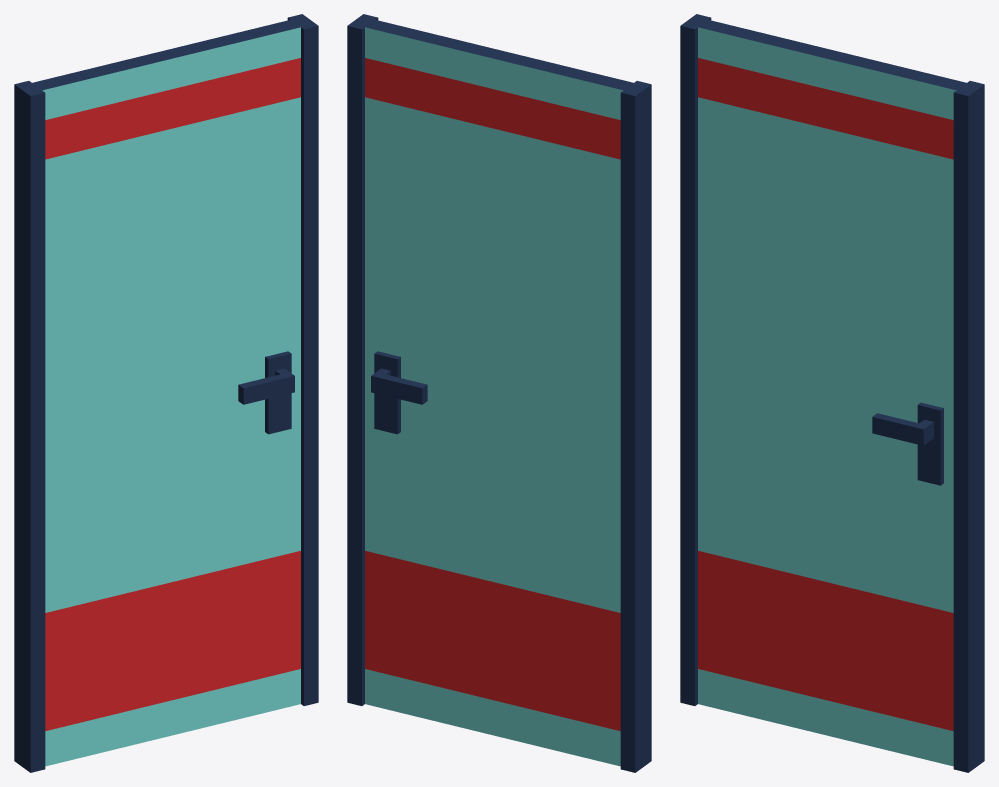
File: graybox door 1x2.5.fbx
3 renders of one model, left to right at view 1: azimuth 30°, elevation 25°; view 2: azimuth 150°, elevation 25°; view 3: azimuth 330°, elevation 25°, orthographic.
Visible parts, largest first — view 1: Door2x2, Door2x2frame; view 2: Door2x2, Door2x2frame; view 3: Door2x2, Door2x2frame.
Boxes of the visible parts, x1,y1,x2,y2 form: Door2x2: (32, 20, 300, 766); Door2x2frame: (14, 14, 318, 772); Door2x2: (365, 20, 633, 766); Door2x2frame: (347, 14, 651, 772); Door2x2: (698, 20, 966, 766); Door2x2frame: (680, 14, 984, 772).
Bounding box in the file's own units: 1.11 × 2.5 × 0.2493.
